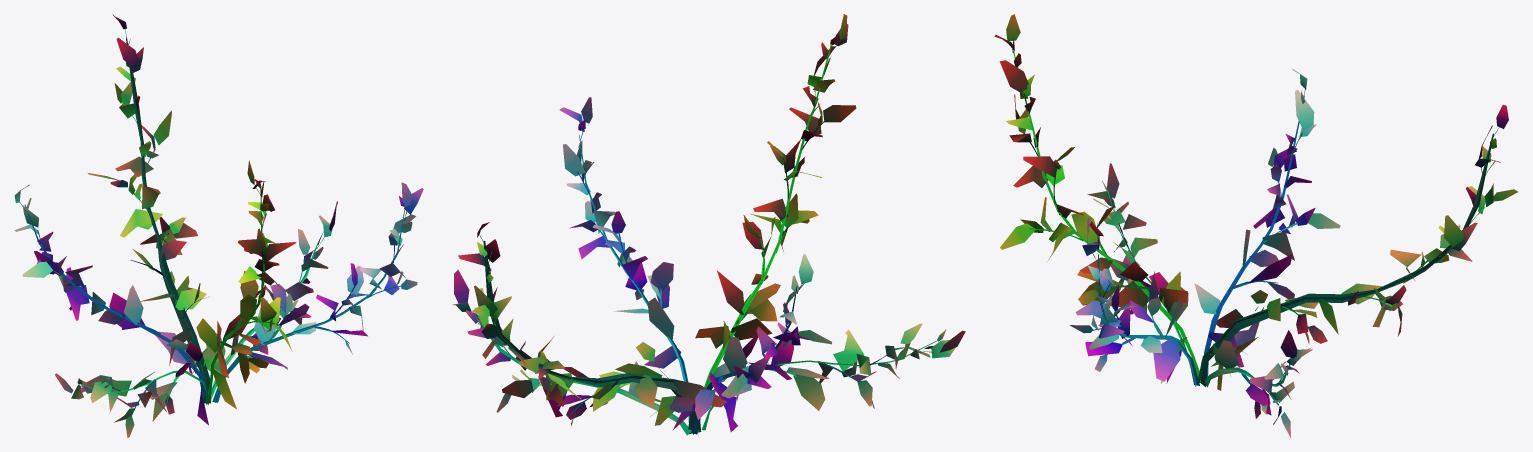
The model's file is Creeping_Saltbush_thckfiqr_Mid_thckfiqr_VarA_LOD1.fbx.
3 views of the same model, side by side, from view 1: azimuth 30°, elevation 25°; view 2: azimuth 150°, elevation 25°; view 3: azimuth 270°, elevation 25° (orthographic). The views are drawn at different scales.
Parts seen in each view (by area): view 1: _1d9e_VarA_LOD2; view 2: _1d9e_VarA_LOD2; view 3: _1d9e_VarA_LOD2.
Boxes of the visible parts, left/top/right/bottom form: _1d9e_VarA_LOD2: left=14, top=14, right=423, bottom=437; _1d9e_VarA_LOD2: left=452, top=14, right=965, bottom=435; _1d9e_VarA_LOD2: left=994, top=14, right=1517, bottom=437.
Size of the model in its own units: 62.1 by 52.47 by 70.41.
